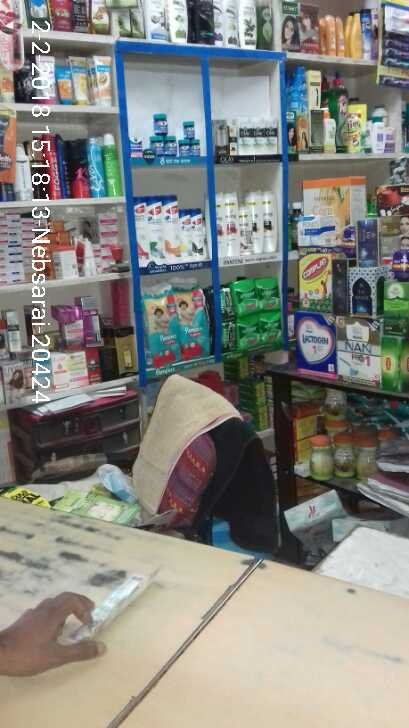vicks: (127, 111, 201, 161)
